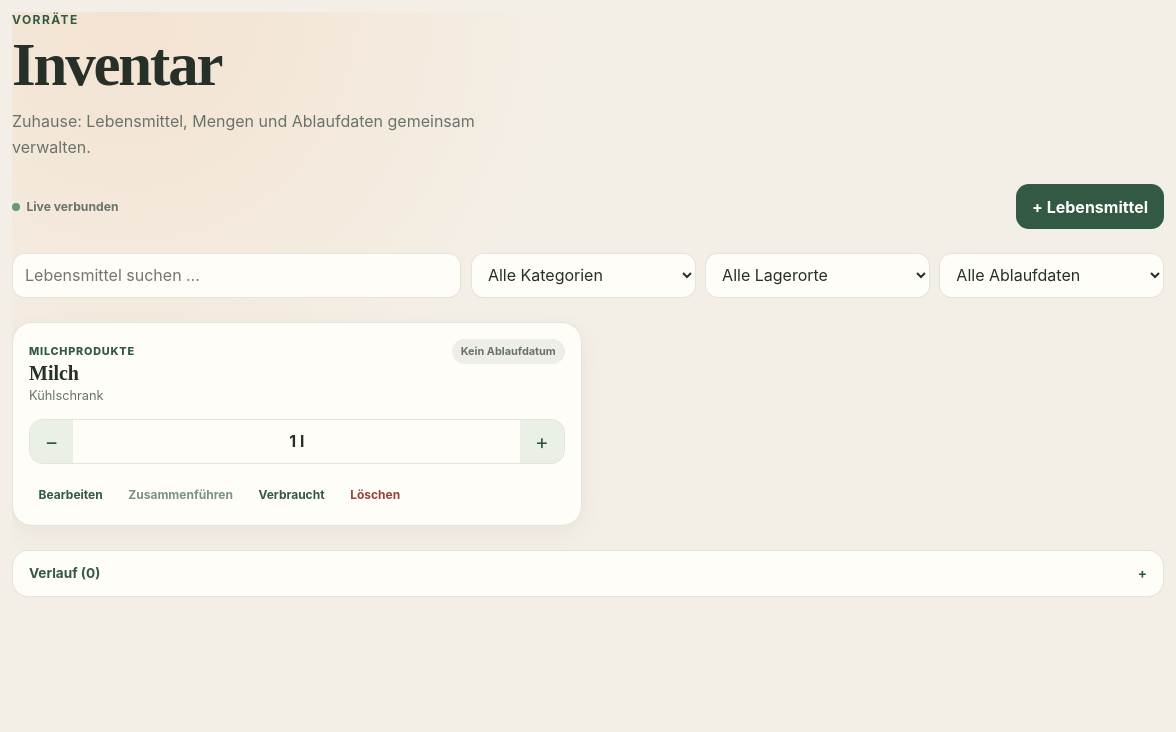
Inventarseite › zeigt Bestand und filtert ohne Serveranfrage
Expected: the heading "Milch" is shown, [29,362,79,384]
In the search field with placeholder "Lebensmittel suchen …": x=237, y=275 [12,253,461,298], type "Reis"
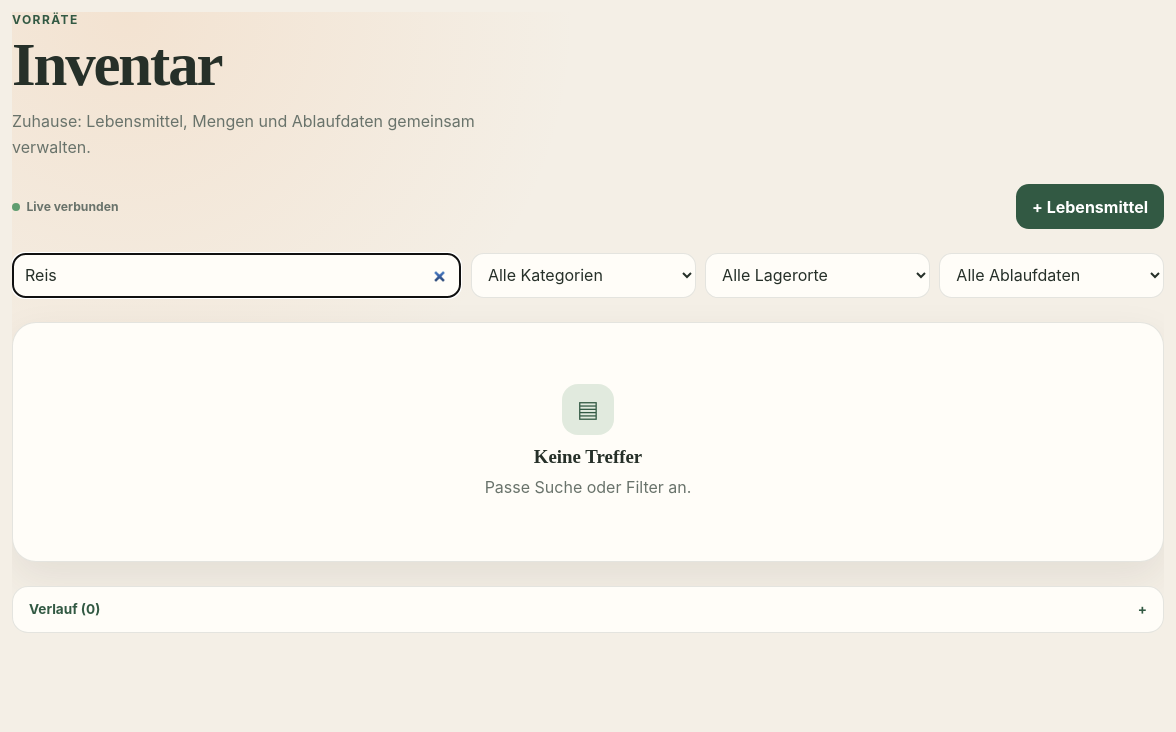
Result: the heading "Keine Treffer" is shown at [534,446,642,468]
